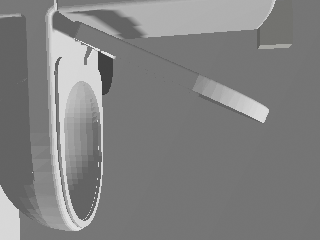lid_1: (70, 20, 269, 123)
